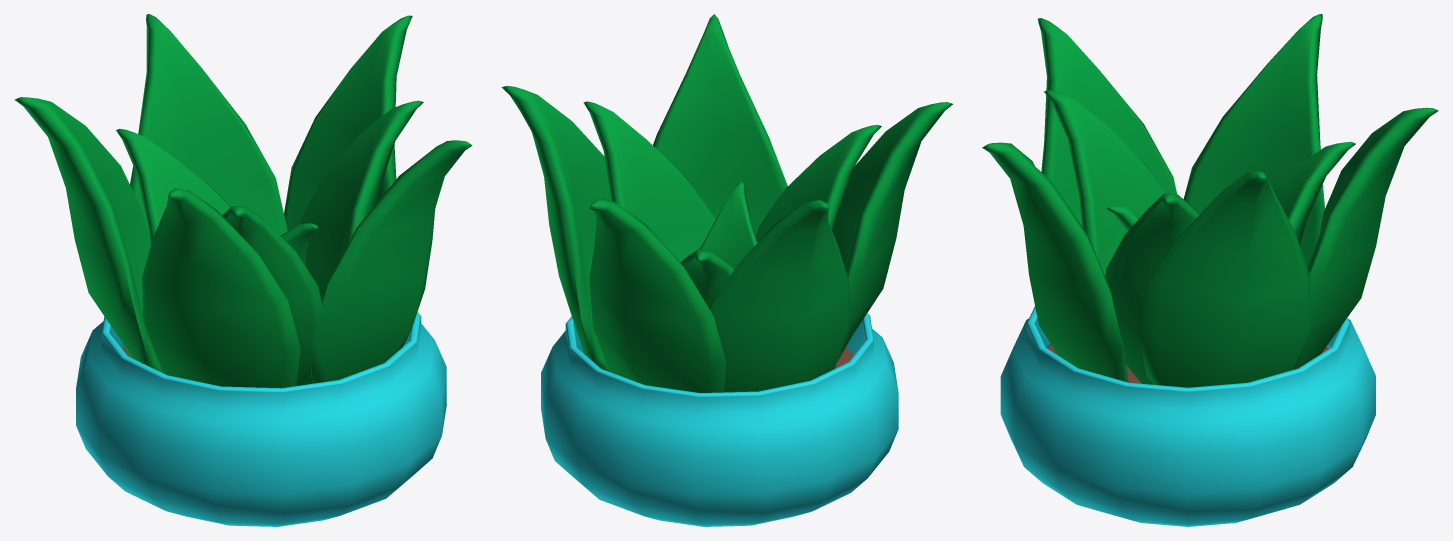
File: Store_6_Plant_11.glb
The picture shows the model from 3 angles, left to right: view 1: azimuth 30°, elevation 25°; view 2: azimuth 150°, elevation 25°; view 3: azimuth 270°, elevation 25°; orthographic projection. The views are drawn at different scales.
Parts seen in each view (by area): view 1: Store_6_Plant_11; view 2: Store_6_Plant_11; view 3: Store_6_Plant_11.
Part boxes in pixels (x1,y1,x2,y2): Store_6_Plant_11: (14,14,472,526); Store_6_Plant_11: (501,14,952,526); Store_6_Plant_11: (982,14,1438,526).
Size of the model in its own units: 0.4136 by 0.4153 by 0.4416.
1 material, 1 textured.
